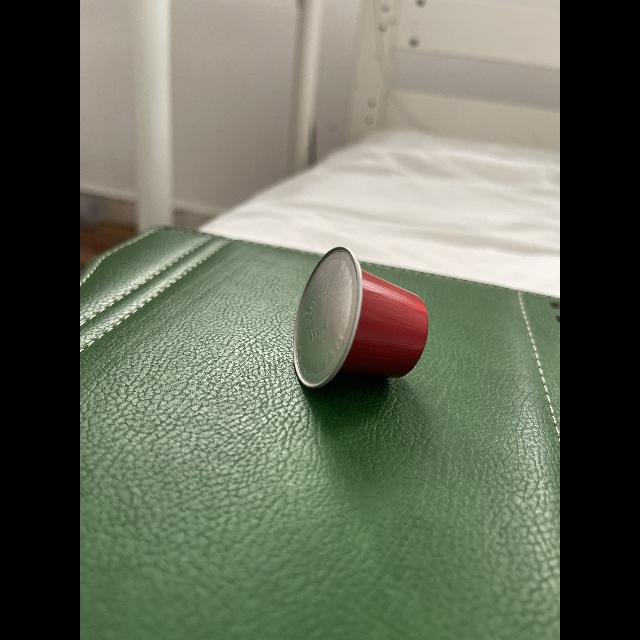intact_capsule: (274, 230, 442, 400)
